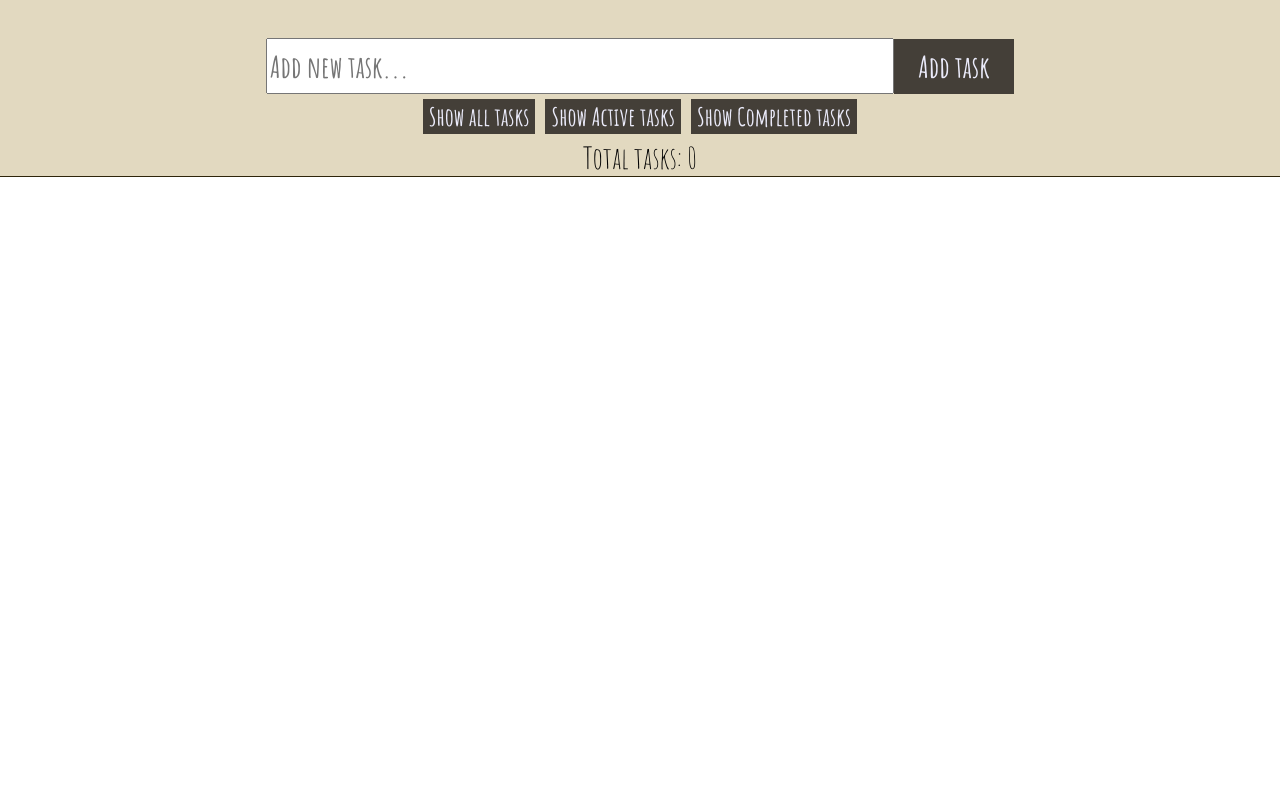
it: TODO app › when deleting an existing task › should remove that task from the todo list
Step 1. Type "Foo" into the field with placeholder "Add new task..." → [580, 66], box [266,38,894,94]
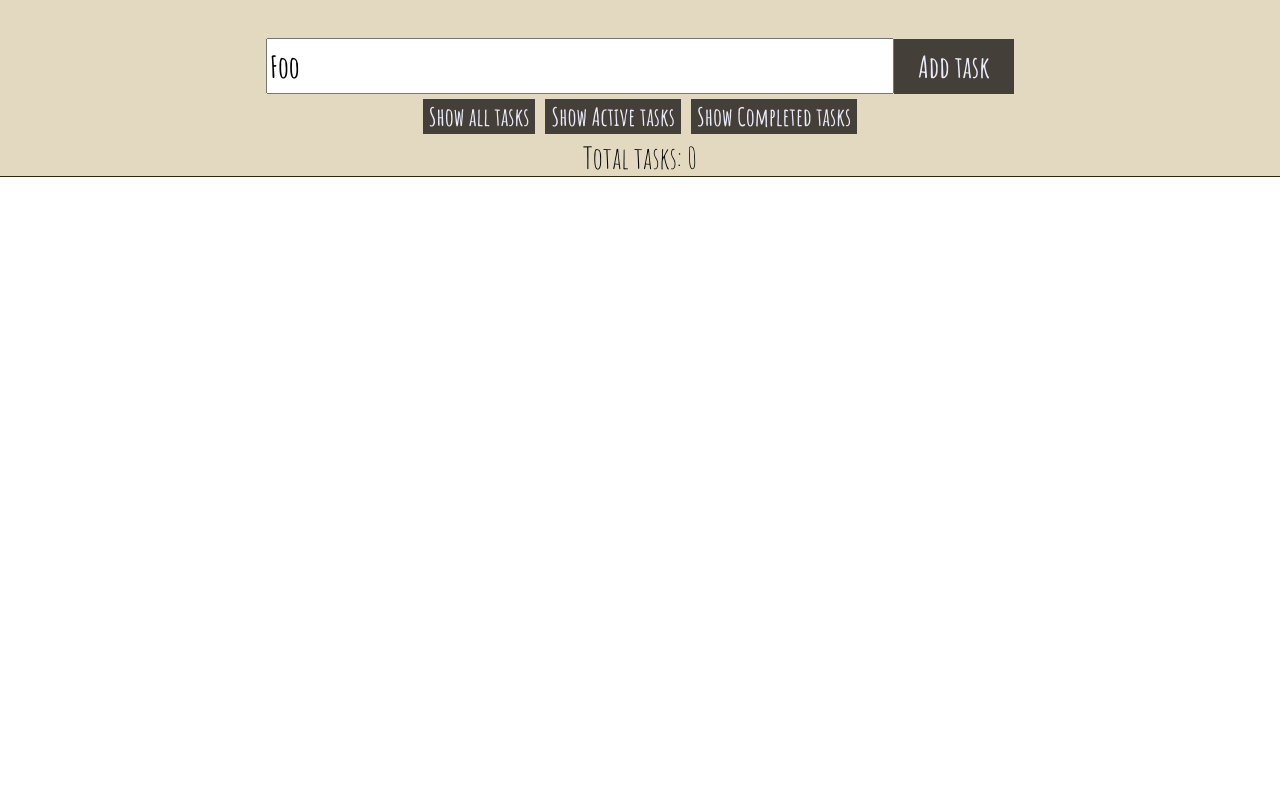
Step 2. Click the button "Add task" → [954, 66], box [894,39,1014,94]
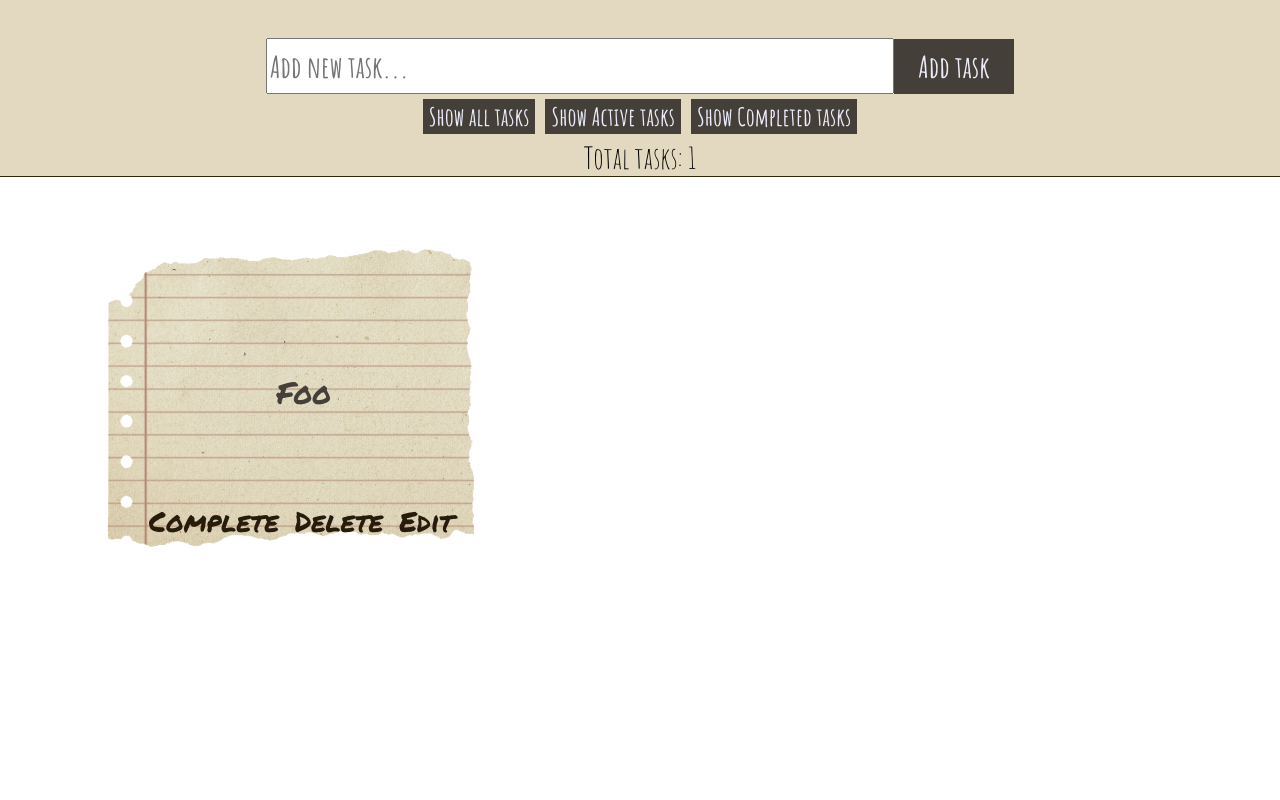
Step 3. Click the button "Delete" → [339, 514], box [289,500,389,528]
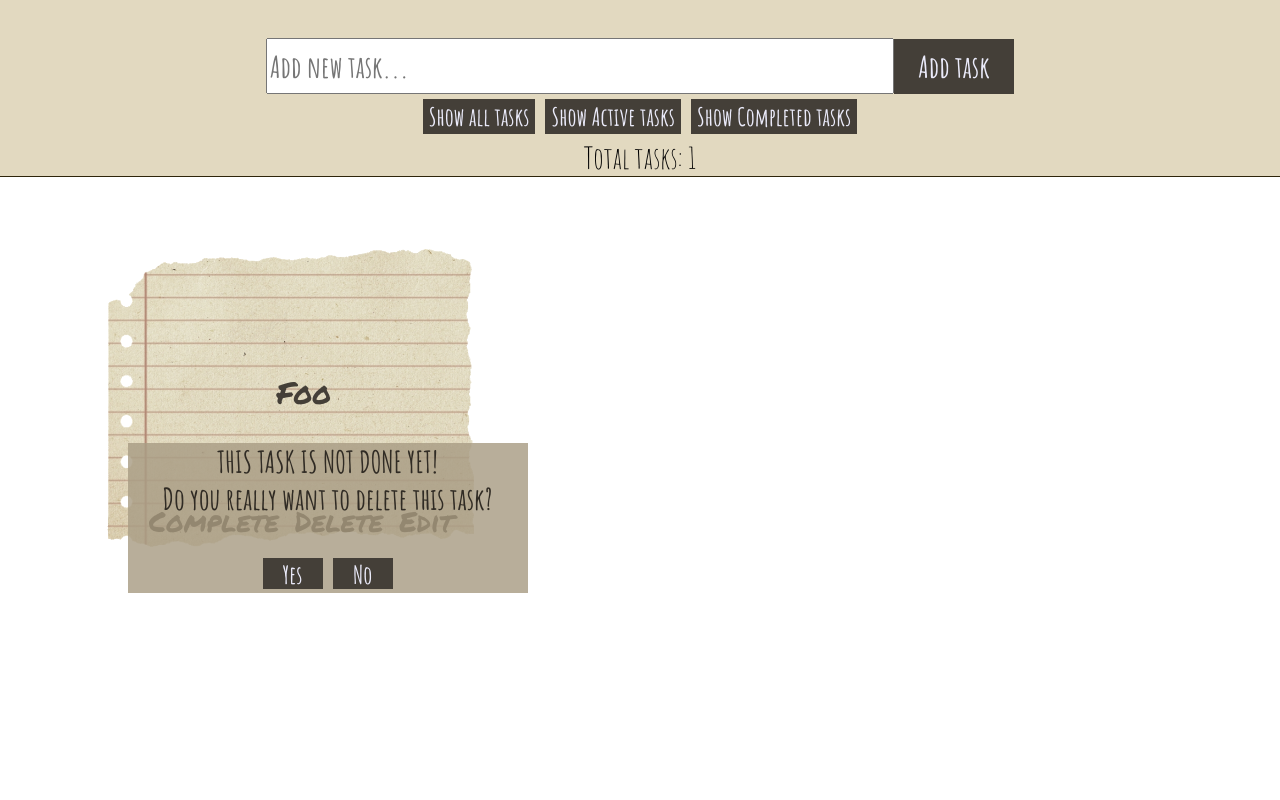
Step 4. Click the button "Yes" → [293, 574], box [263,558,323,589]
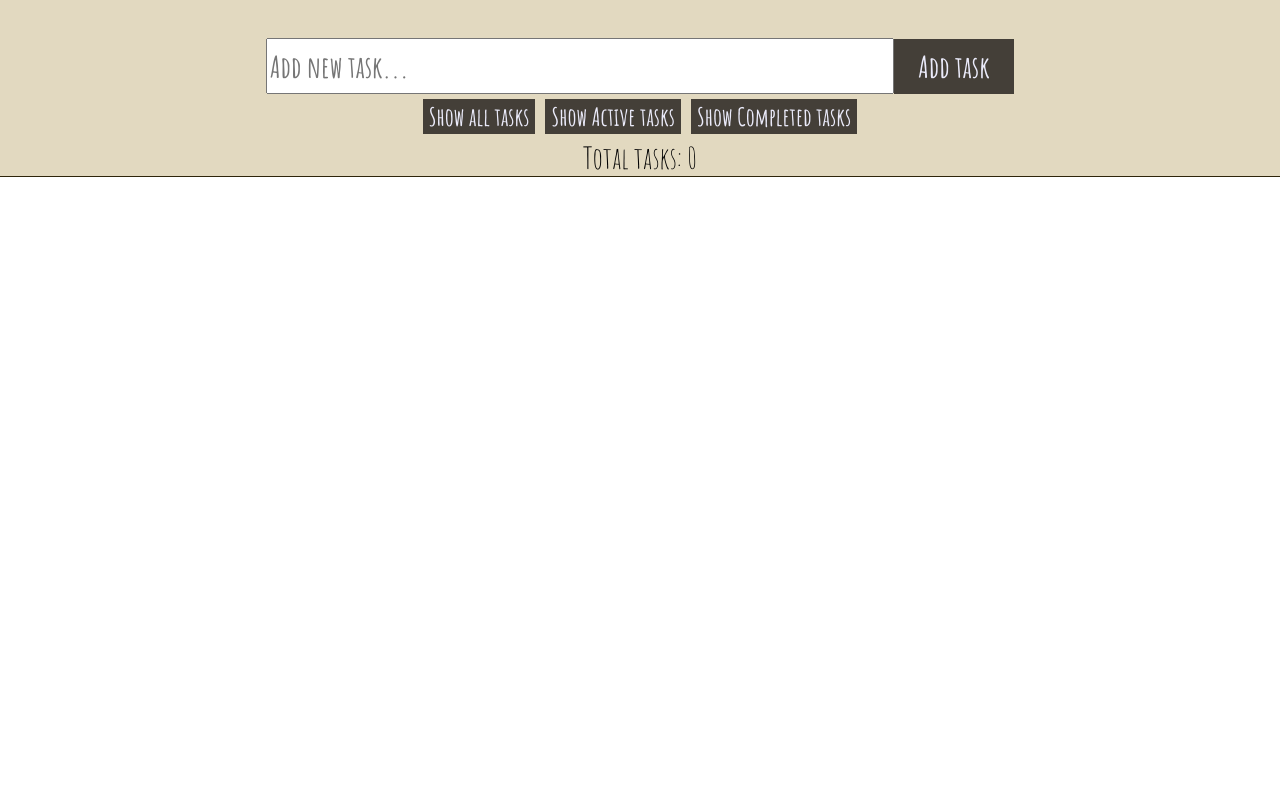
Now the text "Foo" is gone
